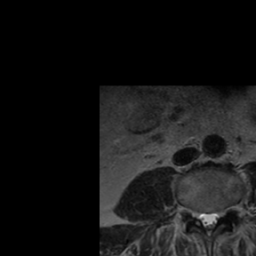CCS_normal: (206, 206, 212, 242)
LFS_normal: (220, 202, 228, 221)
LLS_normal: (212, 205, 220, 230)
RFS_normal: (190, 203, 198, 227)
RLS_stenosis: (198, 205, 206, 230)
